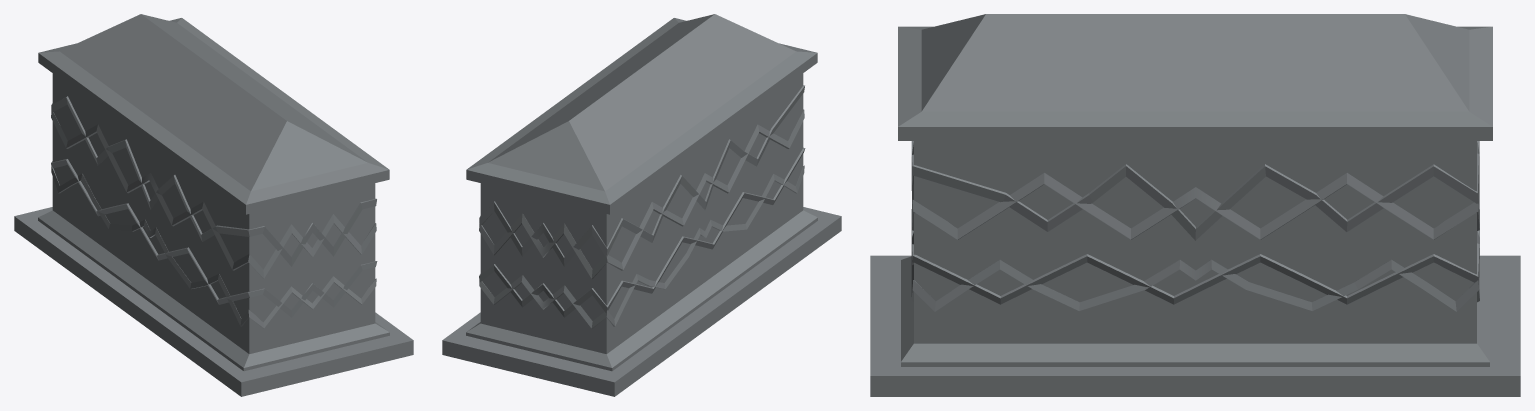
Rendered from Cercueil_Simple.FBX.
The picture shows the model from 3 angles, left to right: view 1: azimuth 30°, elevation 25°; view 2: azimuth 150°, elevation 25°; view 3: azimuth 270°, elevation 25°; orthographic projection. The views are drawn at different scales.
Visible parts, largest first — view 1: cercueil_simple; view 2: cercueil_simple; view 3: cercueil_simple.
Boxes of the visible parts, x1,y1,x2,y2 form: cercueil_simple: (14,14,413,396); cercueil_simple: (442,14,841,396); cercueil_simple: (870,14,1520,396).
Bounding box in the file's own units: 92.07 × 115 × 210.
1 material, 1 textured.
